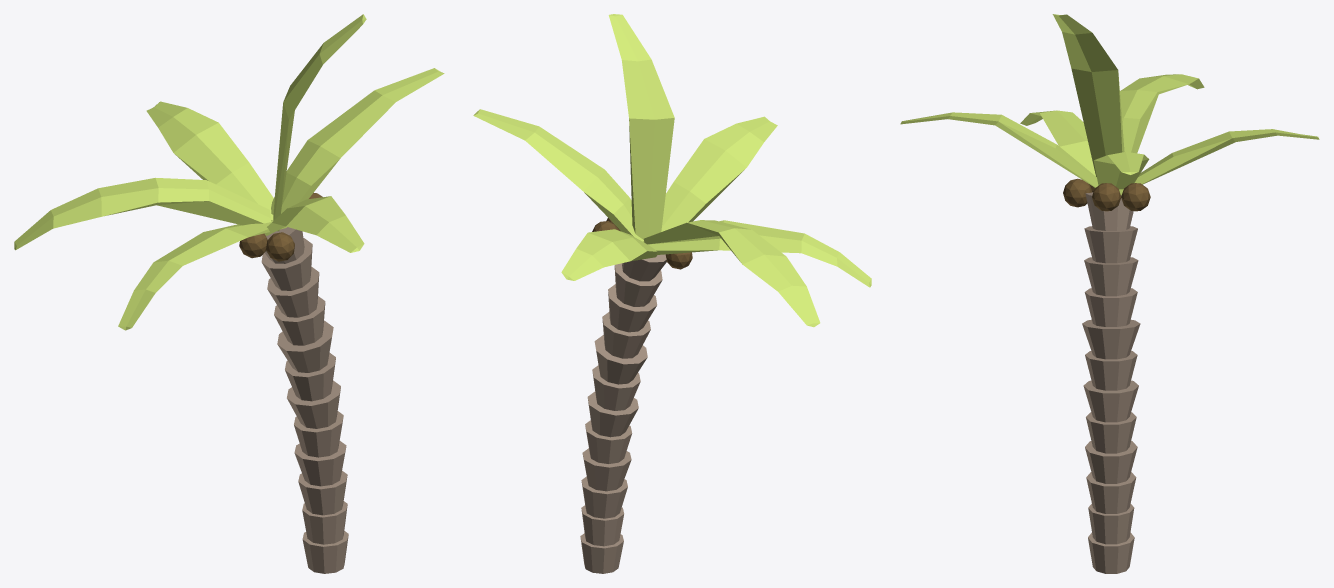
Rendered from Palmtree_2 1.fbx.
The picture shows the model from 3 angles, left to right: view 1: azimuth 30°, elevation 25°; view 2: azimuth 150°, elevation 25°; view 3: azimuth 270°, elevation 25°; orthographic projection. The views are drawn at different scales.
Parts seen in each view (by area): view 1: Palmtree2_mesh; view 2: Palmtree2_mesh; view 3: Palmtree2_mesh.
Boxes of the visible parts, x1=… form: Palmtree2_mesh: x1=14, y1=14, x2=444, y2=573; Palmtree2_mesh: x1=473, y1=14, x2=871, y2=573; Palmtree2_mesh: x1=900, y1=14, x2=1319, y2=573.
Size of the model in its own units: 76593 by 104369 by 70870.
